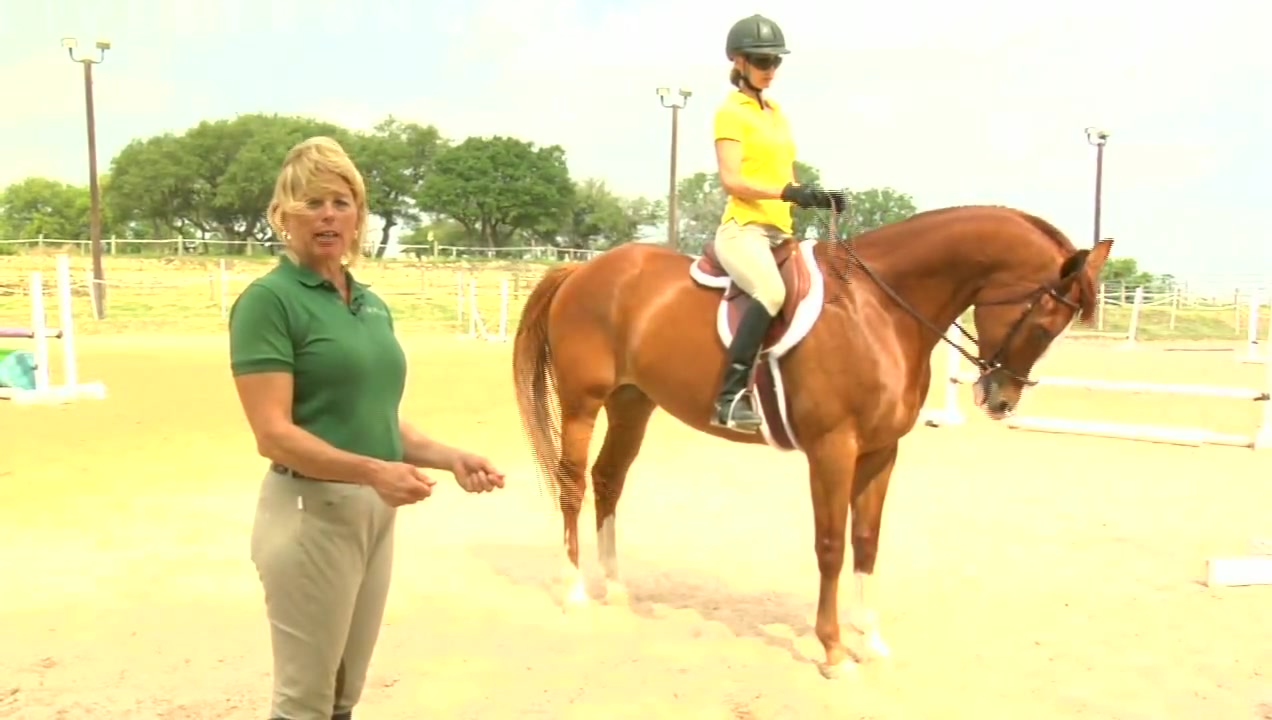horse: (514, 205, 1118, 682)
